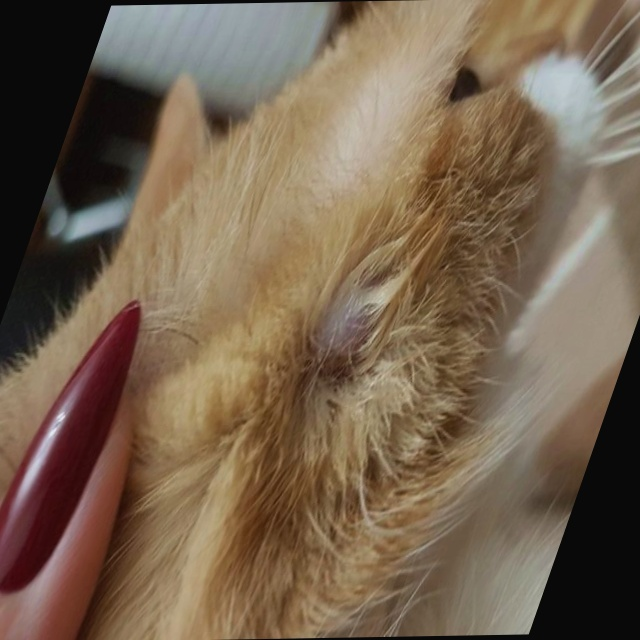lump_and_bump: (317, 276, 395, 345)
